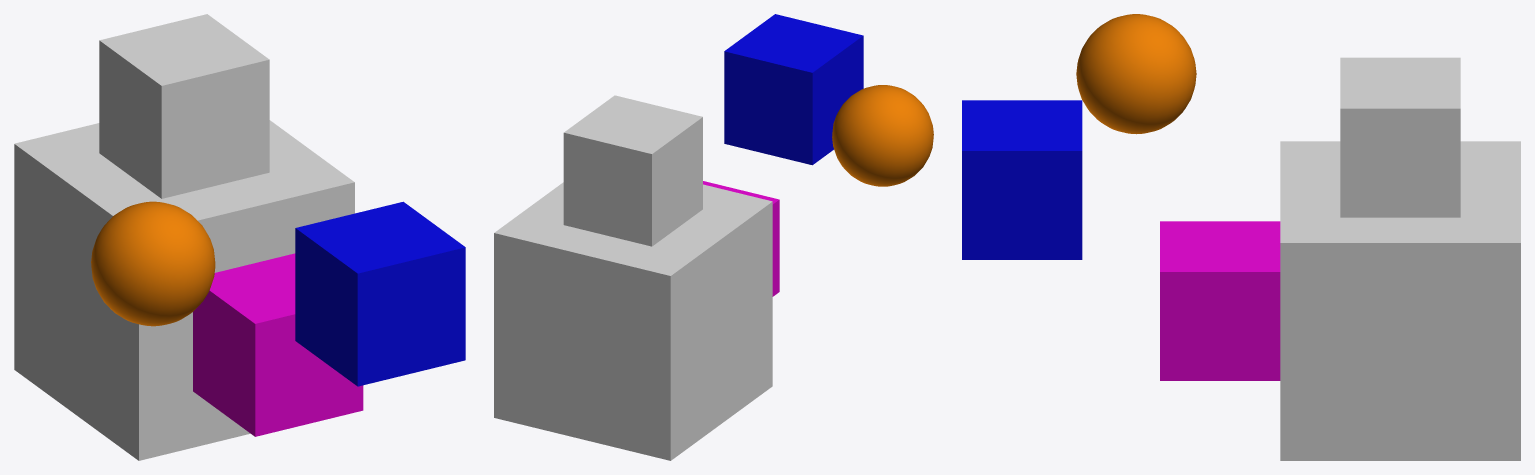
The model's file is block.glb.
The picture shows the model from 3 angles, left to right: view 1: azimuth 30°, elevation 25°; view 2: azimuth 150°, elevation 25°; view 3: azimuth 270°, elevation 25°; orthographic projection. The views are drawn at different scales.
Visible parts, largest first — view 1: Cube.002, Cube, Sphere; view 2: Cube.002, Cube, Sphere; view 3: Cube.002, Cube, Sphere.
Boxes of the visible parts, x1=… form: Cube.002: x1=14, y1=14, x2=354, y2=460; Cube: x1=193, y1=201, x2=465, y2=436; Sphere: x1=91, y1=201, x2=215, y2=326; Cube.002: x1=494, y1=95, x2=772, y2=460; Cube: x1=703, y1=14, x2=863, y2=296; Sphere: x1=832, y1=85, x2=933, y2=186; Cube.002: x1=1280, y1=57, x2=1520, y2=460; Cube: x1=962, y1=100, x2=1280, y2=380; Sphere: x1=1076, y1=14, x2=1196, y2=134.
Size of the model in its own units: 6.11 by 6 by 9.29.
